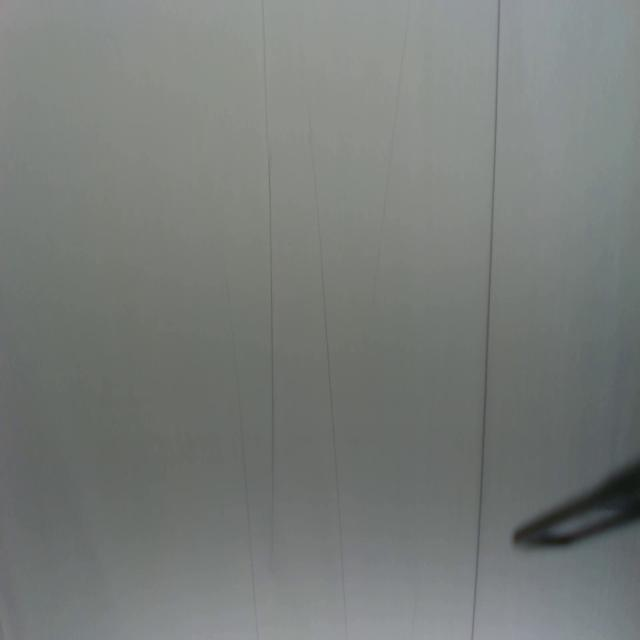crease: (304, 100, 349, 637), (468, 1, 502, 639), (368, 7, 415, 287), (259, 1, 281, 559), (226, 290, 260, 640)
